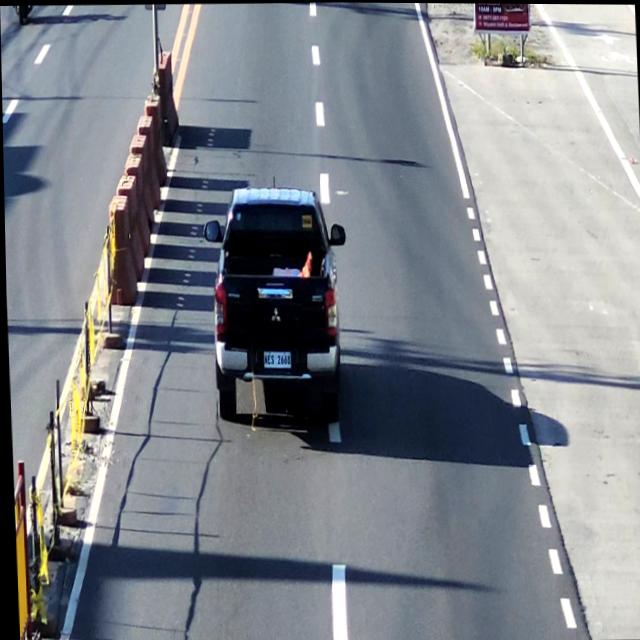Car: (200, 183, 353, 434)
License-Plate: (256, 348, 291, 374)
